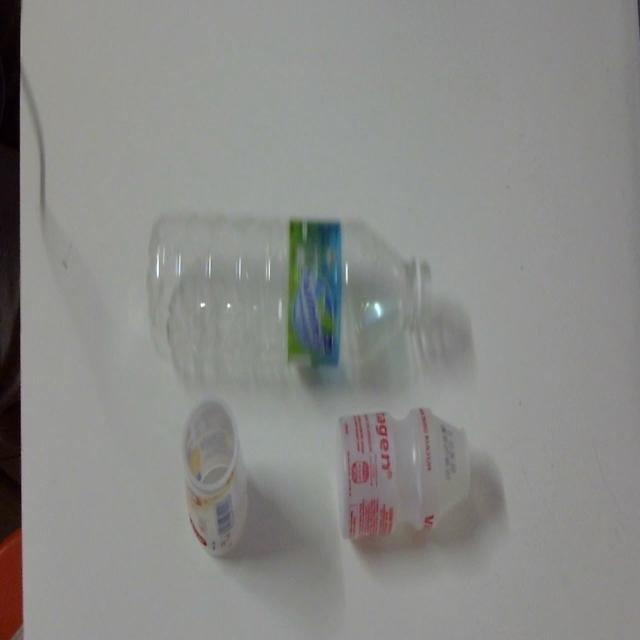plastic_laydown_0rotation: (142, 199, 435, 390), (336, 393, 475, 545)
plastic_standrotation: (175, 389, 262, 563)
